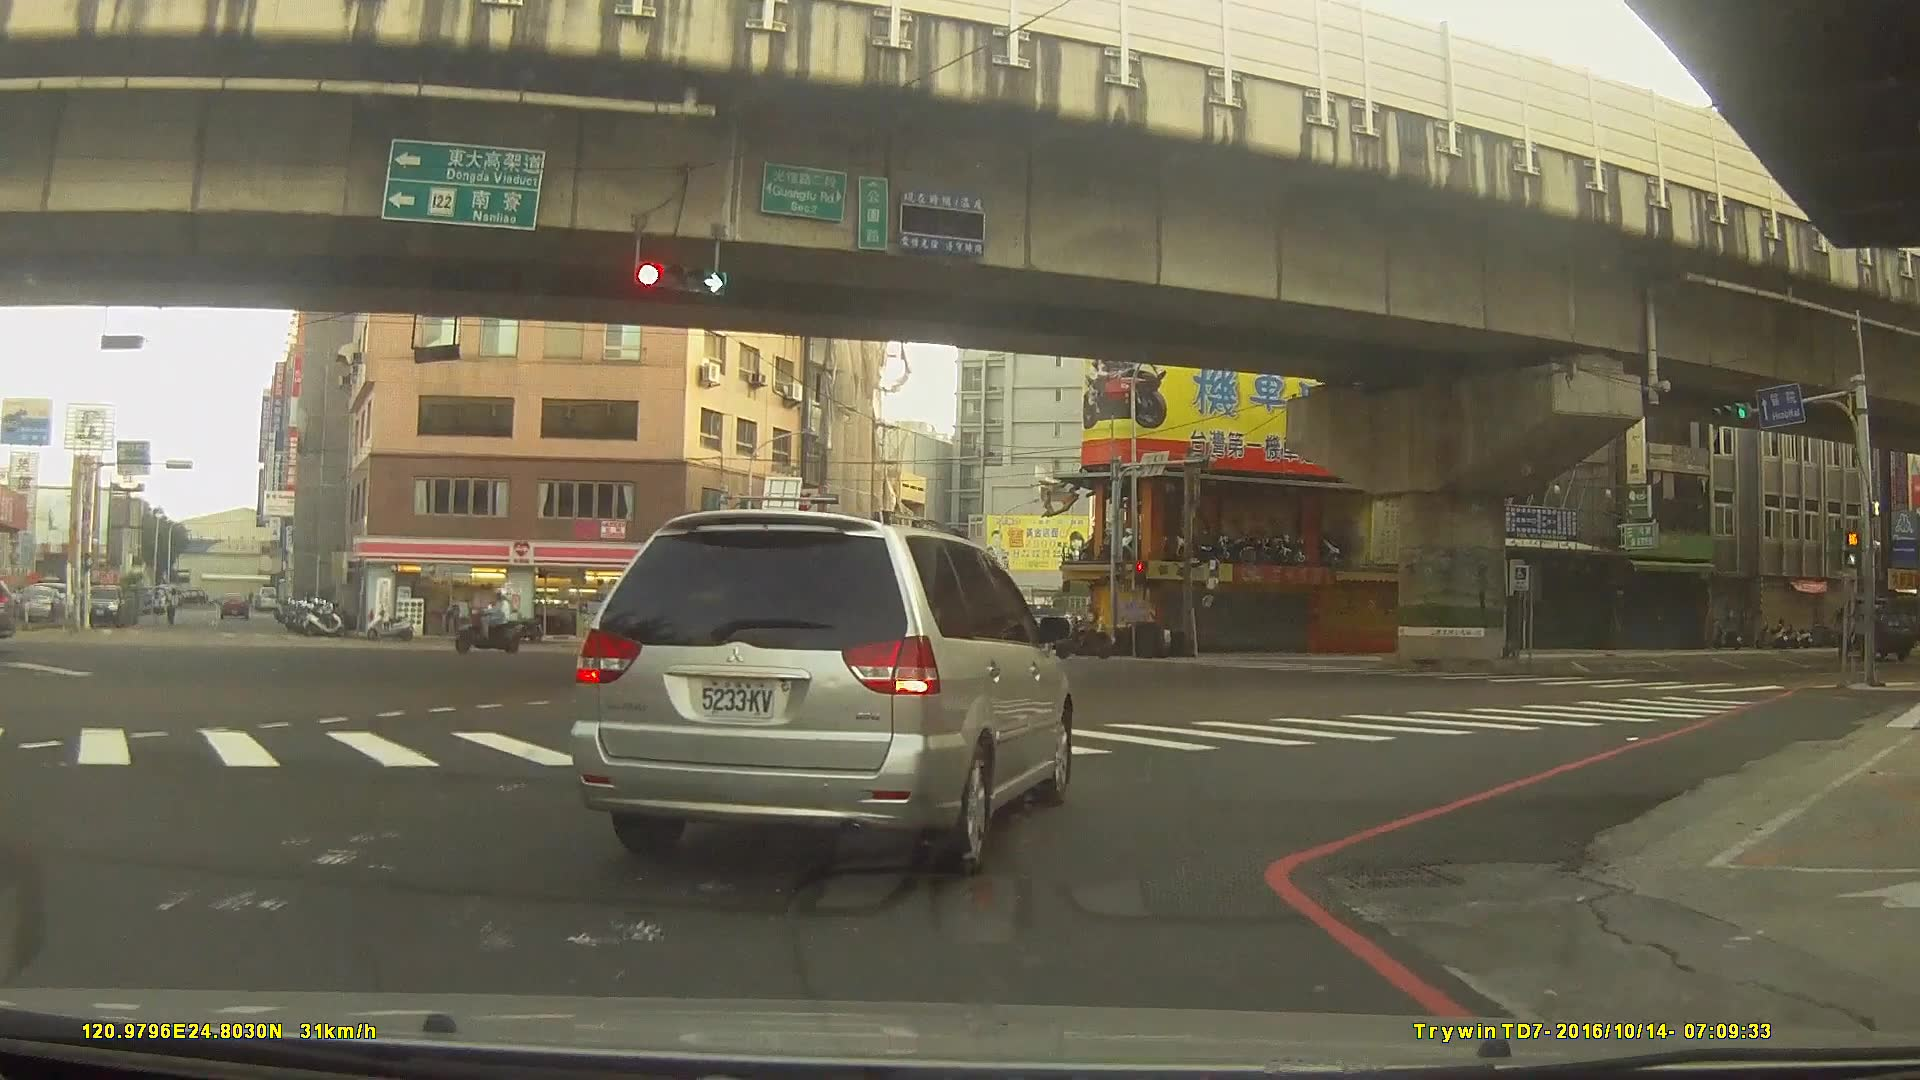rider: (457, 589, 527, 652), (1054, 599, 1113, 657)
vehicle: (567, 507, 1073, 874), (1836, 593, 1914, 661), (873, 625, 941, 664), (83, 582, 126, 627), (543, 606, 605, 633), (216, 589, 252, 621)
